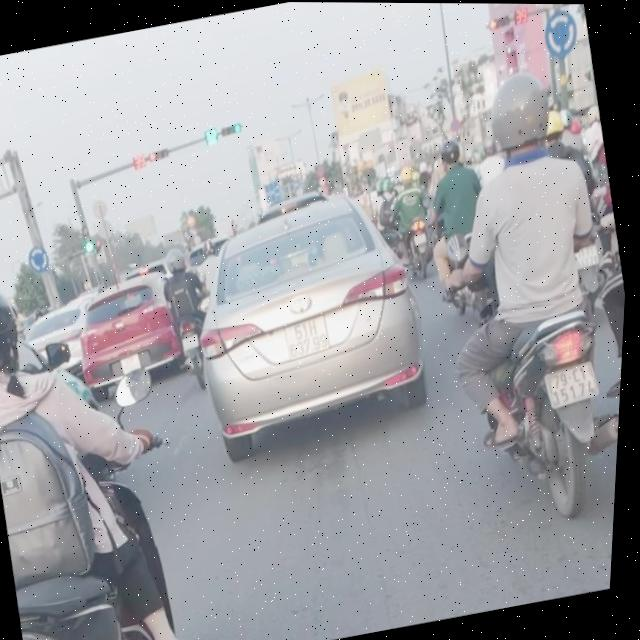car: (174, 184, 449, 455), (68, 270, 188, 387)
motorcycle: (484, 307, 624, 536), (9, 544, 156, 640), (164, 311, 213, 392), (394, 210, 442, 285)
plate: (538, 356, 611, 416), (273, 312, 345, 367), (113, 347, 151, 379)
